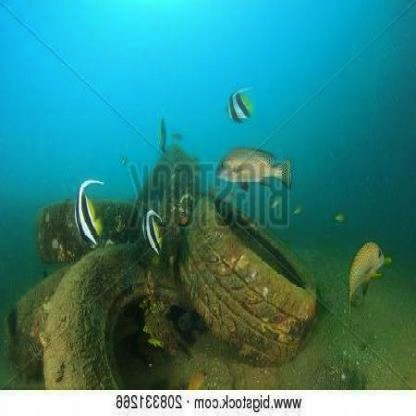tire: (40, 244, 237, 388), (178, 192, 324, 362), (2, 266, 72, 378), (29, 192, 147, 258), (140, 138, 196, 244)
